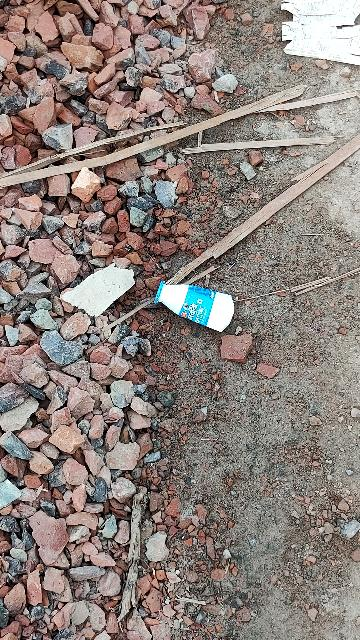bottle: (151, 272, 252, 332)
